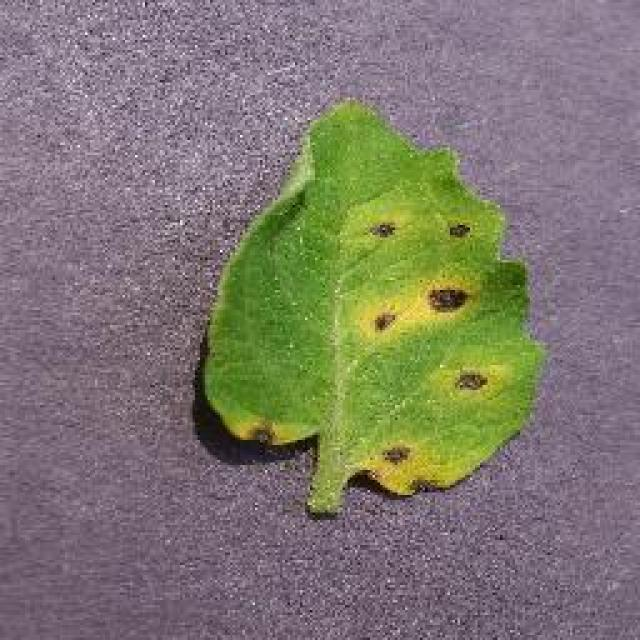Tomato target spot leaf: (200, 101, 550, 504)
